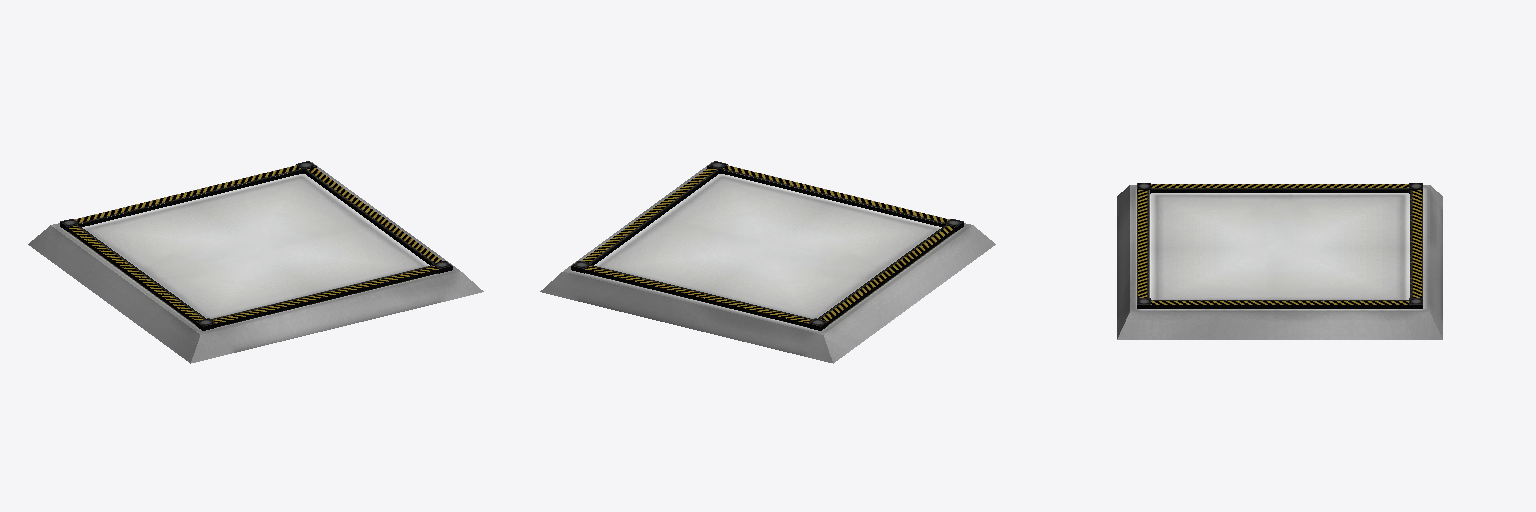
3 views of the same model, side by side, from view 1: azimuth 30°, elevation 25°; view 2: azimuth 150°, elevation 25°; view 3: azimuth 270°, elevation 25° (orthographic).
Parts seen in each view (by area): view 1: group, group00003; view 2: group, group00003; view 3: group, group00003.
Boxes of the visible parts, x1=… form: group: x1=28, y1=162, x2=483, y2=363; group00003: x1=68, y1=165, x2=441, y2=326; group: x1=540, y1=162, x2=995, y2=363; group00003: x1=582, y1=165, x2=955, y2=326; group: x1=1117, y1=185, x2=1442, y2=339; group00003: x1=1138, y1=184, x2=1421, y2=308.
Bounding box in the file's own units: 1.32 × 0.1049 × 1.27.
2 materials, 1 textured.